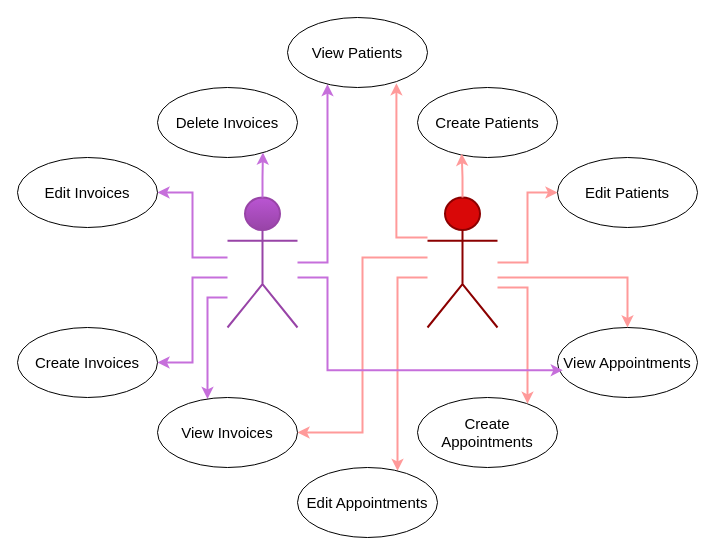
Some shapes in this 715 by 555 pixel diagram are drawn without their labels. Each missing label, with the box of its shape:
Accountant: (226, 196, 298, 328)
Receptionist: (426, 196, 498, 328)
